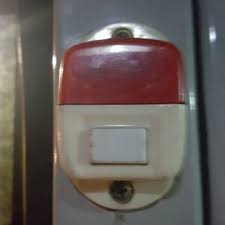bell: (57, 30, 191, 212)
